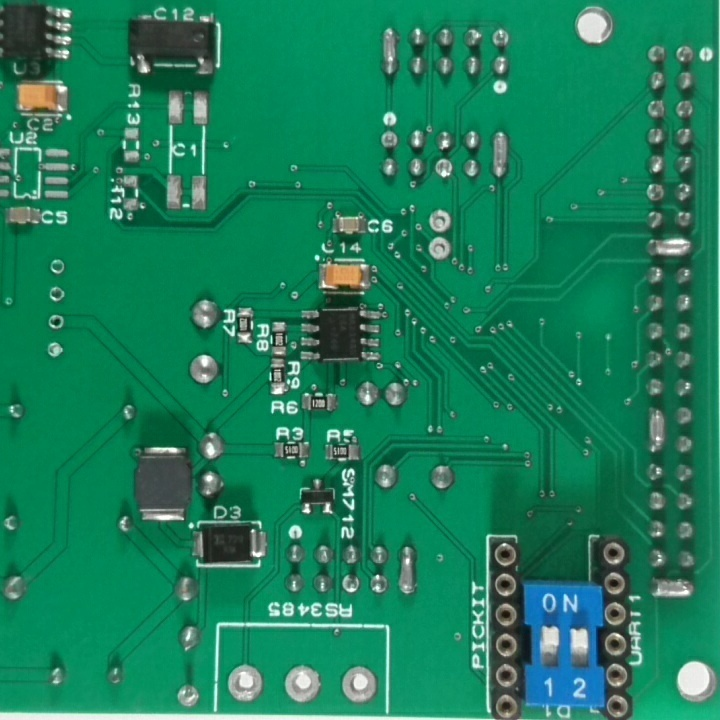F: (281, 661, 326, 712), (224, 661, 269, 709), (340, 663, 383, 709), (174, 683, 202, 711), (426, 207, 453, 235), (427, 235, 452, 263), (340, 572, 364, 600), (434, 157, 457, 183), (674, 42, 697, 67), (674, 97, 695, 124), (491, 27, 513, 52), (645, 180, 666, 206), (380, 131, 402, 153), (47, 312, 66, 335), (45, 340, 65, 360), (48, 258, 68, 277), (48, 285, 66, 305)
P: (647, 575, 700, 603), (378, 23, 402, 83), (646, 235, 698, 261), (396, 543, 419, 599), (645, 406, 668, 460), (491, 129, 513, 183)
